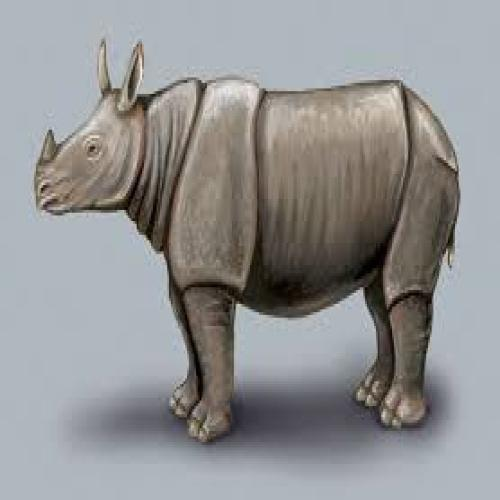rhino-endangered: (34, 40, 458, 446)
